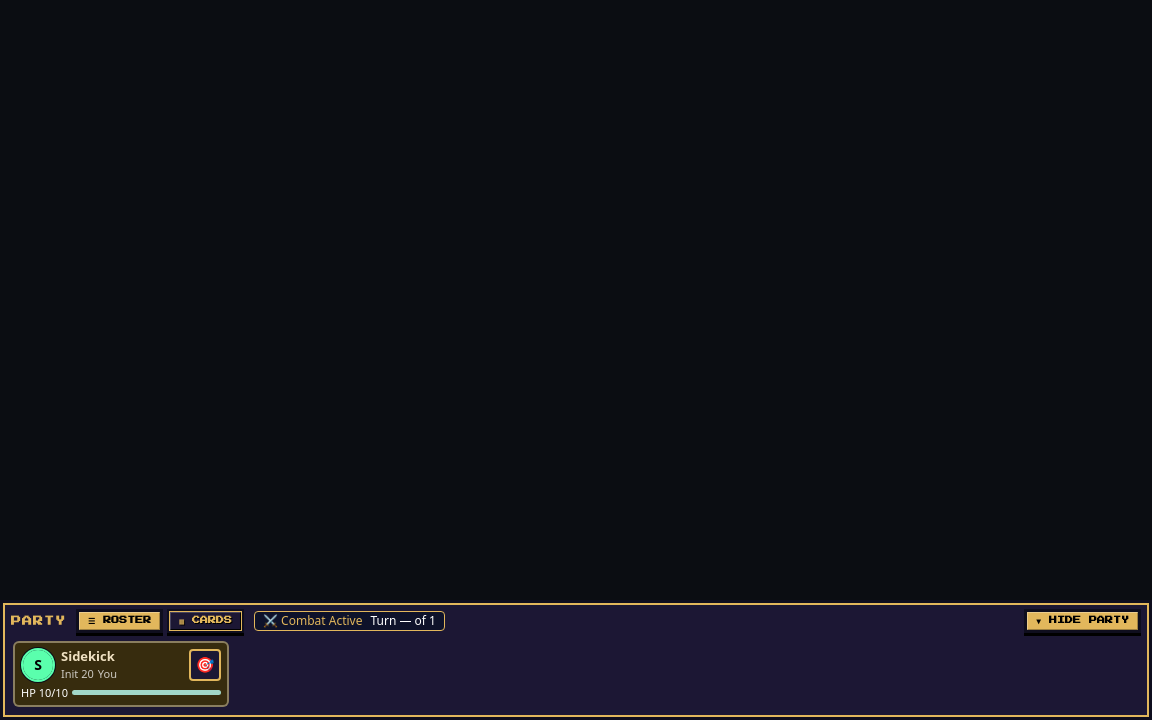
Test: EntitiesPanel — the DM's own character: the bench and the order (F3) › rolled, it is a combatant: it renders in the ORDER, not the DM group, with the control (inert at 0)
This screenshot has width=1152, height=720.
Click the button "▦ Cards" at (206, 620), box [167, 608, 244, 632]
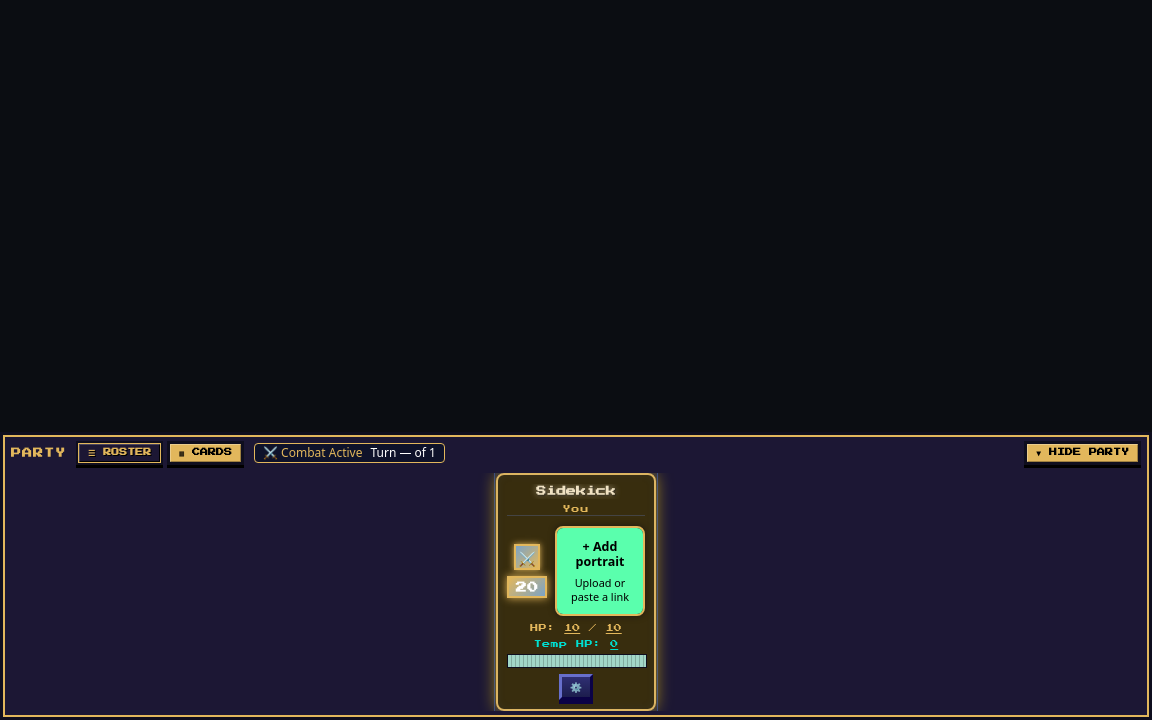
Expected: the text "Sidekick" is shown, [536, 486, 616, 496]
Click the button with aria-label "Change portrait" at (600, 571), box [555, 526, 645, 616]
(page scrolled)
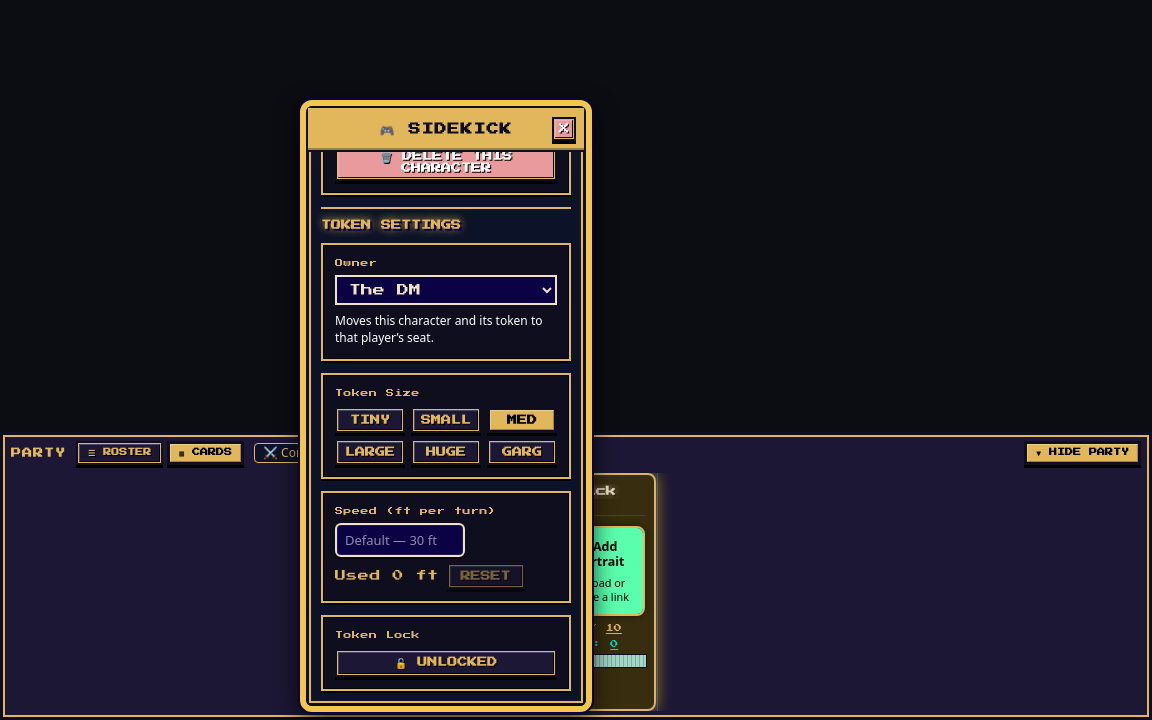
Expected: the text "Token Size" is shown, [335, 389, 420, 397]
Expected: the text "Used 0 ft" is shown, [335, 568, 438, 584]
Expected: the button with aria-label "Reset movement budget" is disabled, [446, 563, 524, 589]
